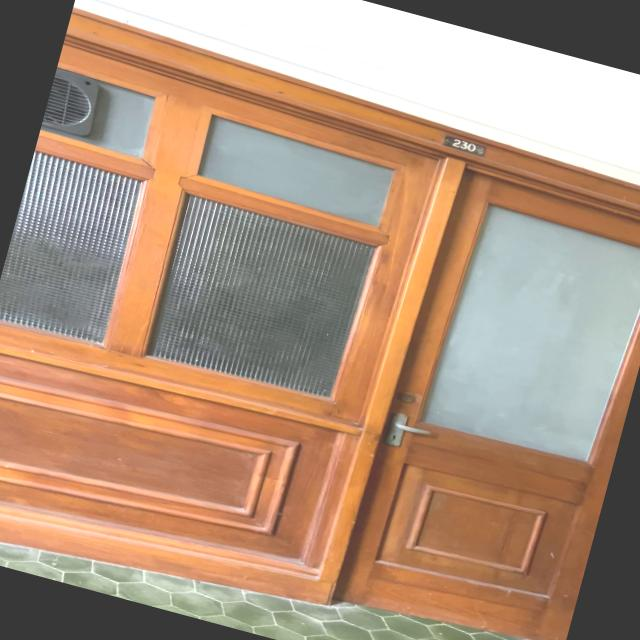room230: (439, 132, 489, 158)
